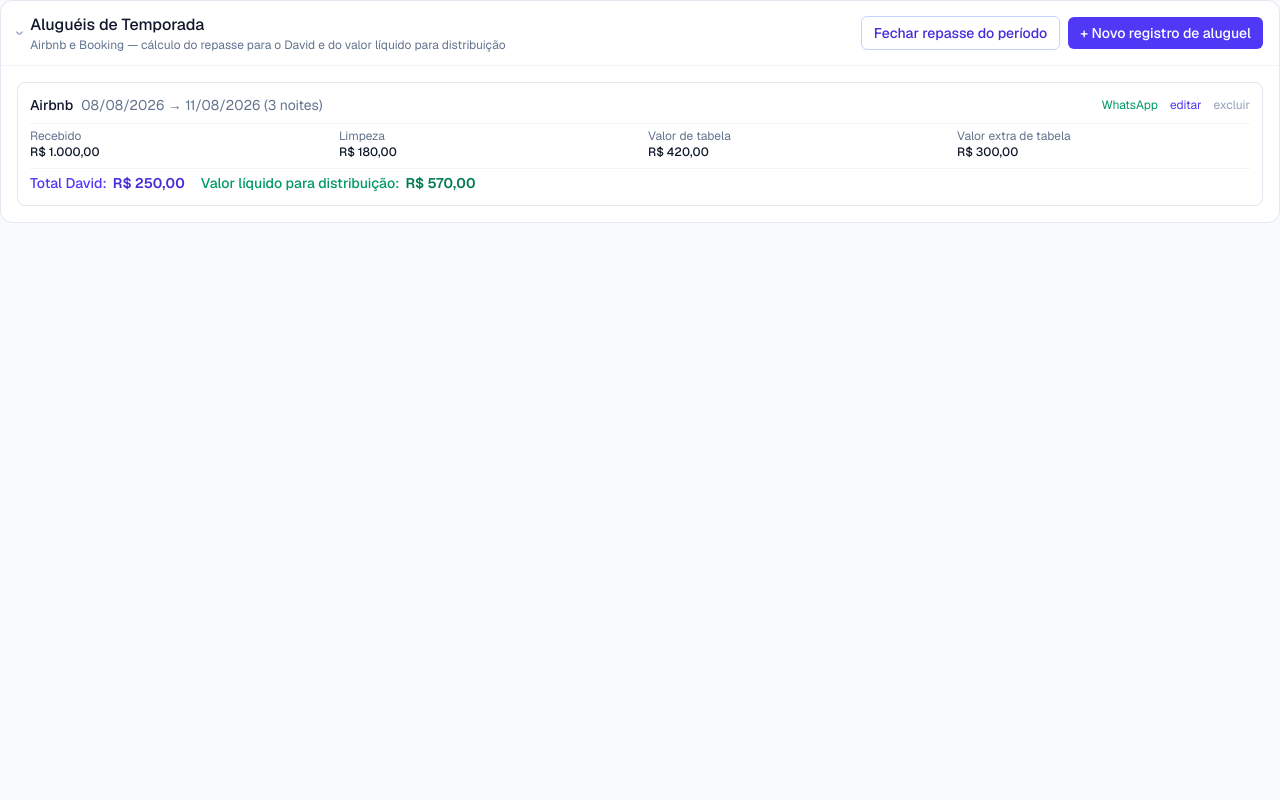
SeasonalRentalsSection — exclusão › confirmar exclui e recarrega
This screenshot has width=1280, height=800.
Expected: the text "Airbnb" is shown, [30,96,73,114]
Click the button "excluir" at (1232, 105), box [1214,97,1250,113]
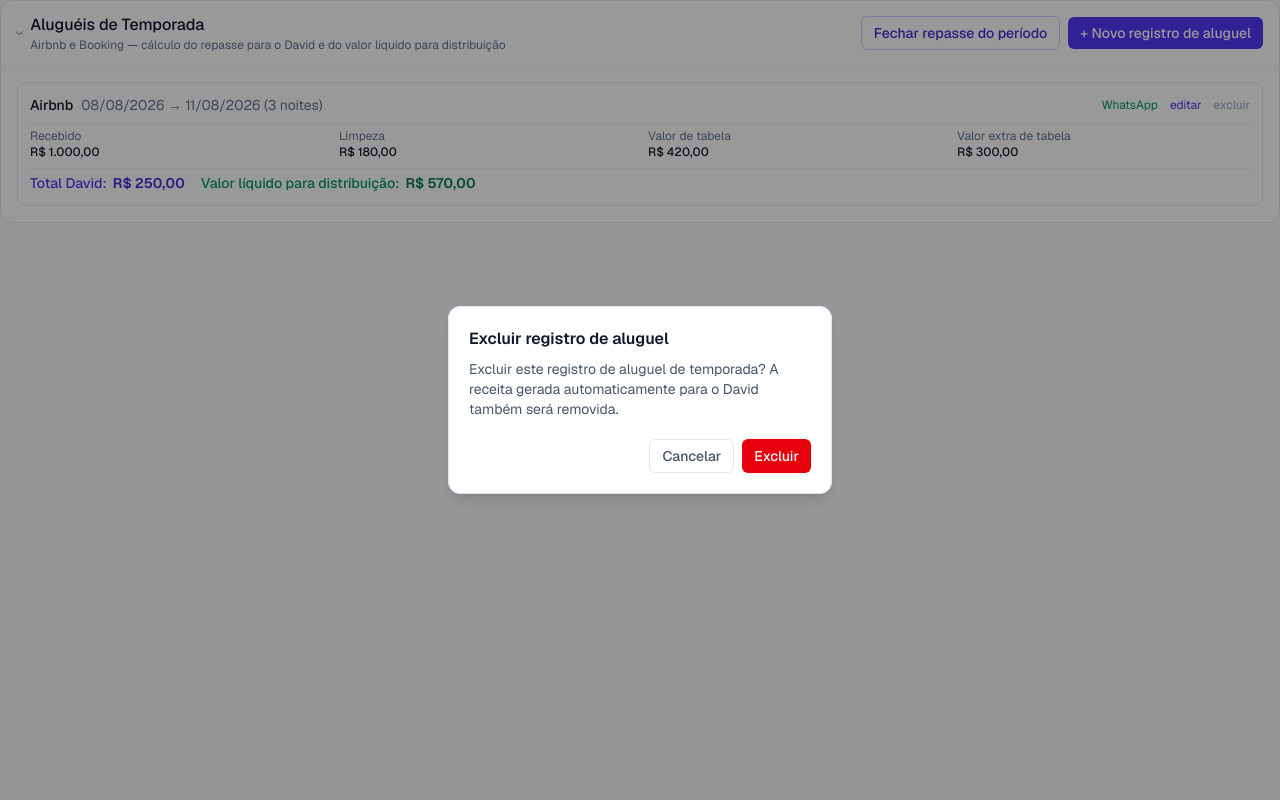
Click the button "Excluir" at (777, 456), box [742,439,811,473]
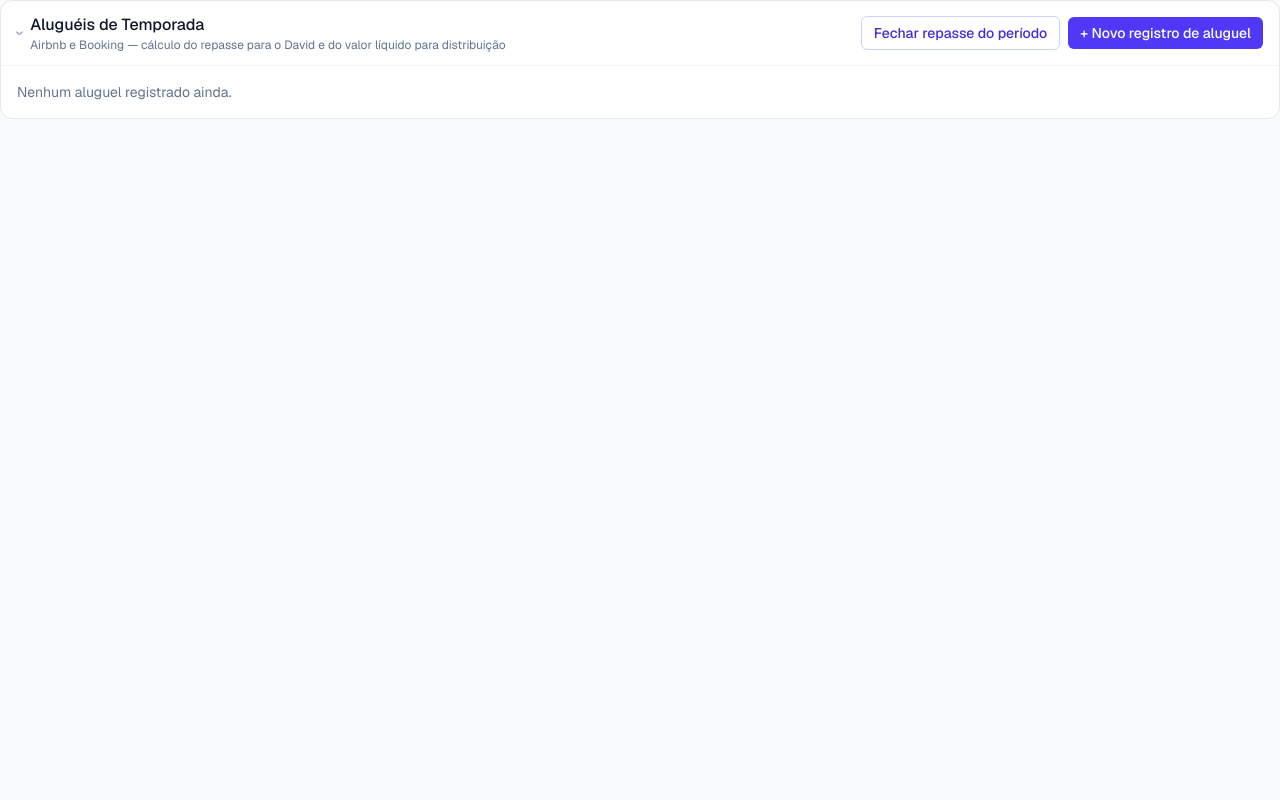
Result: the text "Nenhum aluguel registrado ainda." is shown at [17,83,232,101]
